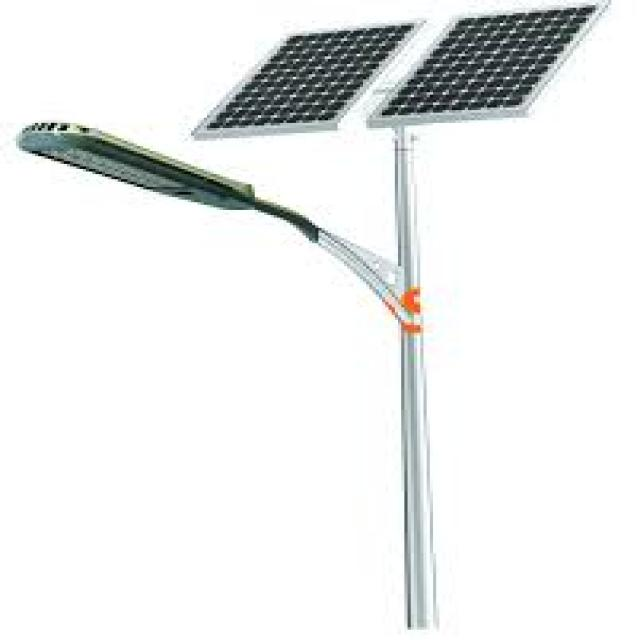Street Light: (16, 120, 439, 640)
